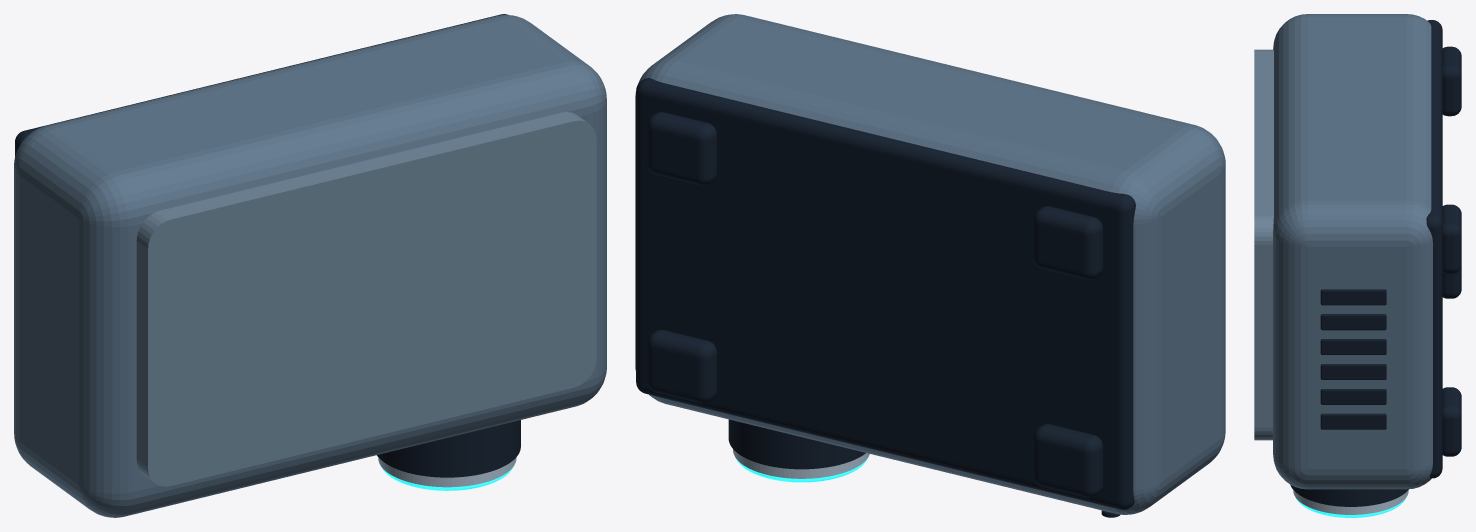
File: ciufu.glb
3 renders of one model, left to right at view 1: azimuth 30°, elevation 25°; view 2: azimuth 150°, elevation 25°; view 3: azimuth 270°, elevation 25°, orthographic. The views are drawn at different scales.
Visible parts, largest first — view 1: 03_Upper_Inset_Panel, 01_Main_Projector_Housing, 04_Lens_Barrel, 05_Titanium_Lens_Bezel, 02_Lower_Base_Seam; view 2: 02_Lower_Base_Seam, 01_Main_Projector_Housing, Rubber_Foot_-1.02_0.55, Rubber_Foot_-1.02_-0.55, Rubber_Foot_1.02_0.55, Rubber_Foot_1.02_-0.55, 04_Lens_Barrel, 05_Titanium_Lens_Bezel; view 3: 01_Main_Projector_Housing, 03_Upper_Inset_Panel, 02_Lower_Base_Seam, 04_Lens_Barrel, Rubber_Foot_-1.02_0.55, Rubber_Foot_1.02_0.55, Rubber_Foot_1.02_-0.55, Right_Side_Cooling_Vent_01, Right_Side_Cooling_Vent_06, Right_Side_Cooling_Vent_05, Right_Side_Cooling_Vent_03, Right_Side_Cooling_Vent_04 (+4 smaller).
Boxes of the visible parts, left/top/right/bottom form: 03_Upper_Inset_Panel: left=136, top=112, right=596, bottom=486; 01_Main_Projector_Housing: left=14, top=14, right=606, bottom=517; 04_Lens_Barrel: left=377, top=420, right=520, bottom=477; 05_Titanium_Lens_Bezel: left=378, top=457, right=516, bottom=487; 02_Lower_Base_Seam: left=15, top=14, right=507, bottom=156; 02_Lower_Base_Seam: left=636, top=78, right=1135, bottom=509; 01_Main_Projector_Housing: left=635, top=14, right=1225, bottom=514; Rubber_Foot_-1.02_0.55: left=1033, top=206, right=1103, bottom=279; Rubber_Foot_-1.02_-0.55: left=1033, top=424, right=1103, bottom=497; Rubber_Foot_1.02_0.55: left=647, top=112, right=716, bottom=185; Rubber_Foot_1.02_-0.55: left=647, top=330, right=716, bottom=403; 04_Lens_Barrel: left=728, top=419, right=865, bottom=469; 05_Titanium_Lens_Bezel: left=733, top=449, right=869, bottom=478; 01_Main_Projector_Housing: left=1273, top=14, right=1432, bottom=489; 03_Upper_Inset_Panel: left=1254, top=49, right=1273, bottom=440; 02_Lower_Base_Seam: left=1426, top=20, right=1442, bottom=478; 04_Lens_Barrel: left=1290, top=485, right=1408, bottom=506; Rubber_Foot_-1.02_0.55: left=1442, top=46, right=1461, bottom=116; Rubber_Foot_1.02_0.55: left=1442, top=204, right=1461, bottom=273; Rubber_Foot_1.02_-0.55: left=1442, top=387, right=1461, bottom=456; Right_Side_Cooling_Vent_01: left=1320, top=413, right=1386, bottom=429; Right_Side_Cooling_Vent_06: left=1320, top=289, right=1386, bottom=305; Right_Side_Cooling_Vent_05: left=1320, top=314, right=1386, bottom=330; Right_Side_Cooling_Vent_03: left=1320, top=364, right=1386, bottom=379; Right_Side_Cooling_Vent_04: left=1320, top=339, right=1386, bottom=354.
Bounding box in the file's own units: 2.77 × 2.02 × 1.13.
